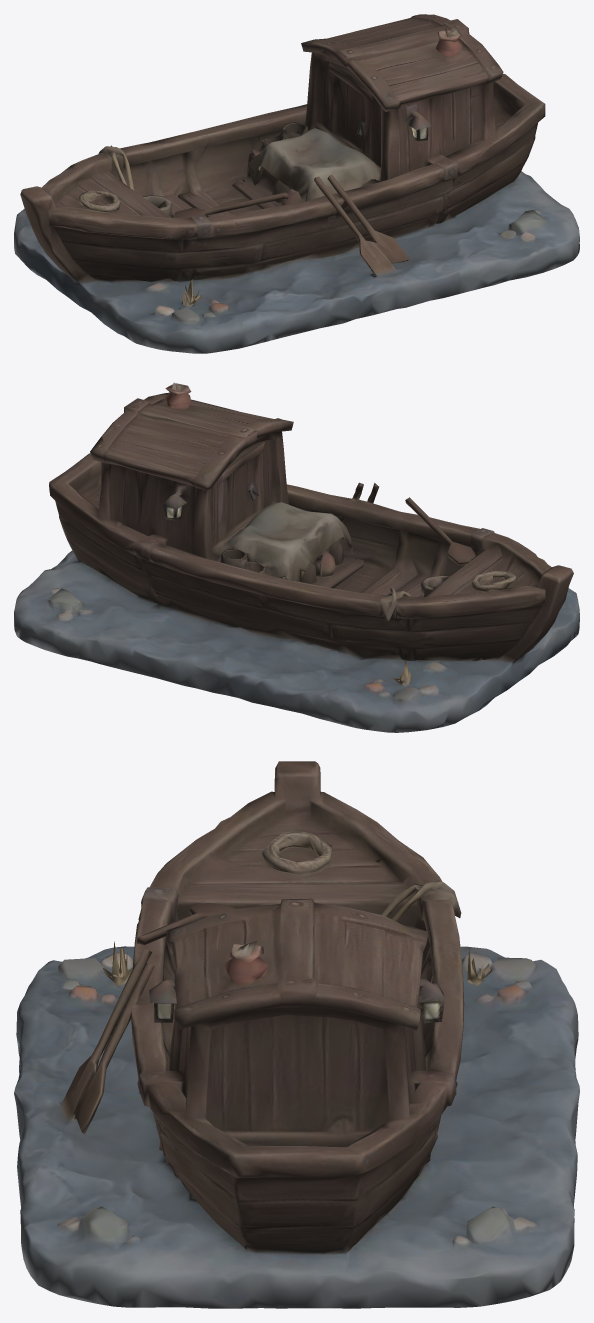
File: journey_boat.glb
The picture shows the model from 3 angles, top to bottom: view 1: azimuth 30°, elevation 25°; view 2: azimuth 150°, elevation 25°; view 3: azimuth 270°, elevation 25°; orthographic projection. The views are drawn at different scales.
Parts seen in each view (by area): view 1: tripo_node_3f002f7a-e029-43eb-ac09-20feb1d6835a; view 2: tripo_node_3f002f7a-e029-43eb-ac09-20feb1d6835a; view 3: tripo_node_3f002f7a-e029-43eb-ac09-20feb1d6835a.
Boxes of the visible parts, x1=… form: tripo_node_3f002f7a-e029-43eb-ac09-20feb1d6835a: x1=14, y1=14, x2=579, y2=353; tripo_node_3f002f7a-e029-43eb-ac09-20feb1d6835a: x1=14, y1=382, x2=579, y2=732; tripo_node_3f002f7a-e029-43eb-ac09-20feb1d6835a: x1=14, y1=761, x2=579, y2=1308.
Size of the model in its own units: 1 by 0.3816 by 0.6403.
1 material, 1 textured.
